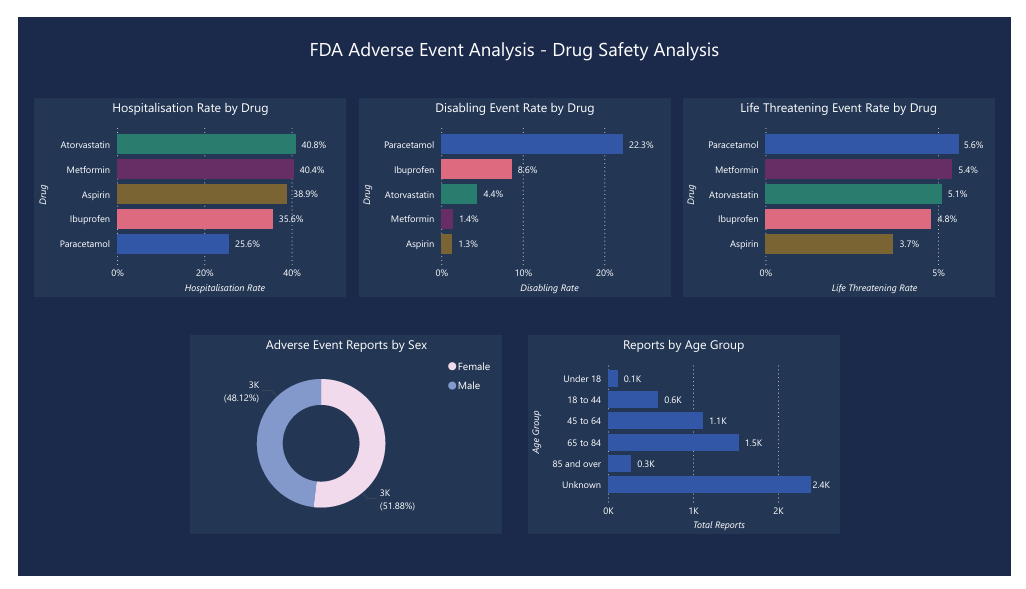

What the dashboard file says about the page in this screenshot:
{"tool":"powerbi","page":{"name":"Drug Safety Analysis","canvas":[1280,720],"ordinal":1},"visuals":[{"type":"clusteredBarChart","title":"Hospitalisation Rate by Drug","fields":{"Category":["fda_adverse_events.drug_name"],"Y":["fda_adverse_events.Hospitalisation Rate"]},"box":[21.1,104.4,401.1,255.6],"z":0},{"type":"clusteredBarChart","title":"Reports by Age Group","fields":{"Category":["fda_adverse_events.age_group"],"Y":["fda_adverse_events.Total Reports"]},"box":[656.7,410,401.1,255.6],"z":1000},{"type":"donutChart","title":"Adverse Event Reports by Sex","fields":{"Category":["fda_adverse_events.sex_label"],"Y":["fda_adverse_events.Total Reports"]},"box":[222.2,410,401.1,255.6],"z":2000},{"type":"clusteredBarChart","title":"Disabling Event Rate by Drug","fields":{"Category":["fda_adverse_events.drug_name"],"Y":["fda_adverse_events.Disabling Rate"]},"box":[438.9,104.4,402.2,255.6],"z":3000},{"type":"clusteredBarChart","title":"Life Threatening Event Rate by Drug","fields":{"Category":["fda_adverse_events.drug_name"],"Y":["fda_adverse_events.Life Threatening Rate"]},"box":[856.7,104.4,401.1,255.6],"z":4000},{"type":"textbox","box":[21.1,17.8,1236.7,72.2],"z":5000}]}

Visuals, with their boxes in screenshot pixels (x1, y1, x2, y2), scaled from the page's 1280x720 canvas onto the 1026x589 screenshot:
"Hospitalisation Rate by Drug" clusteredBarChart: {"left": 17, "top": 85, "right": 338, "bottom": 294}
"Reports by Age Group" clusteredBarChart: {"left": 526, "top": 335, "right": 848, "bottom": 544}
"Adverse Event Reports by Sex" donutChart: {"left": 178, "top": 335, "right": 500, "bottom": 544}
"Disabling Event Rate by Drug" clusteredBarChart: {"left": 352, "top": 85, "right": 674, "bottom": 294}
"Life Threatening Event Rate by Drug" clusteredBarChart: {"left": 687, "top": 85, "right": 1008, "bottom": 294}
textbox: {"left": 17, "top": 15, "right": 1008, "bottom": 74}
